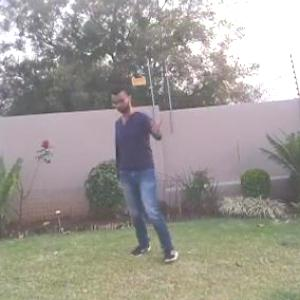takeoff-hand: (146, 105, 174, 137)
